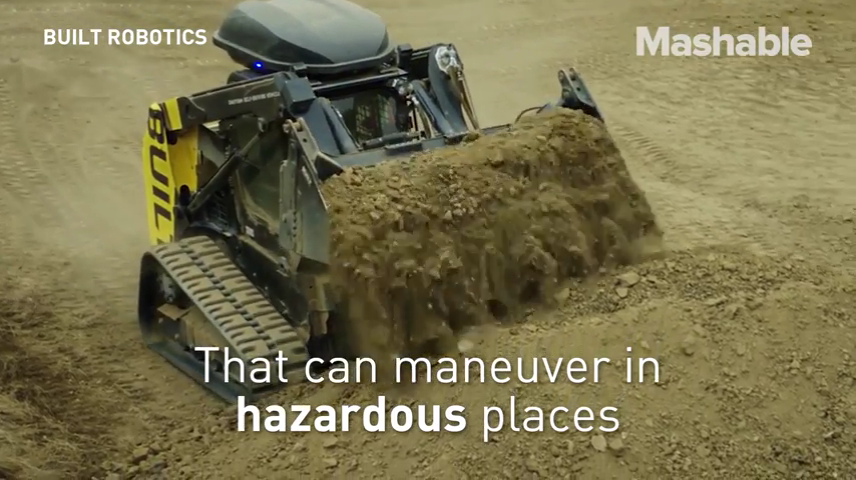con_eq: (134, 4, 671, 406)
